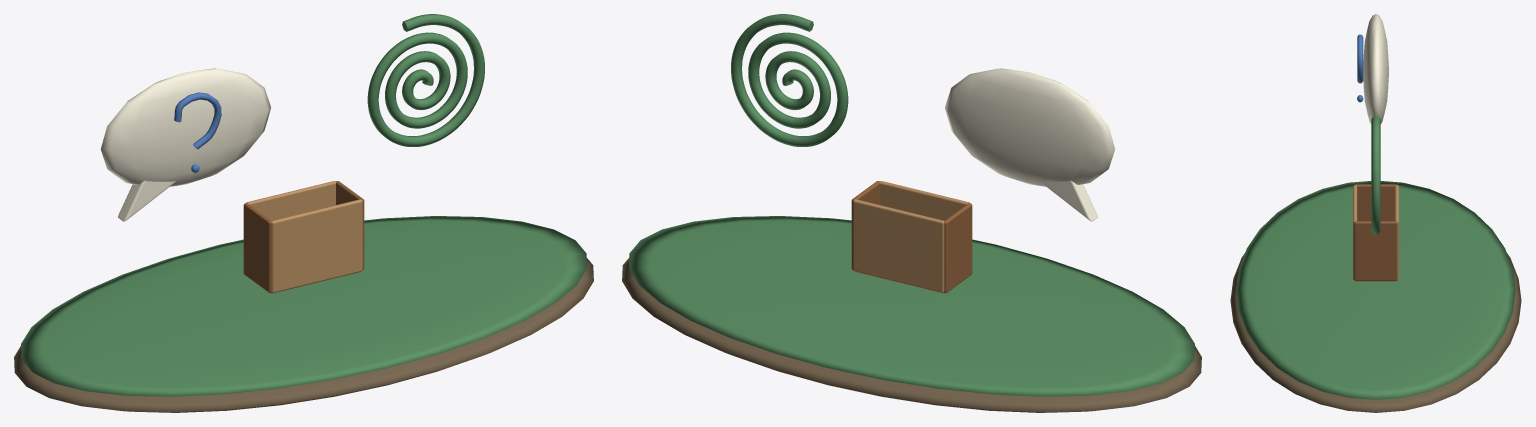
The model's file is complete-first-what-in-the-box.glb.
3 views of the same model, side by side, from view 1: azimuth 30°, elevation 25°; view 2: azimuth 150°, elevation 25°; view 3: azimuth 270°, elevation 25° (orthographic). The views are drawn at different scales.
Parts seen in each view (by area): view 1: complete-first-what-in-the-box_surface_01, complete-first-what-in-the-box_surface_02, complete-first-what-in-the-box_surface_00, complete-first-what-in-the-box_surface_04, complete-first-what-in-the-box_surface_05, complete-first-what-in-the-box_surface_03; view 2: complete-first-what-in-the-box_surface_01, complete-first-what-in-the-box_surface_02, complete-first-what-in-the-box_surface_00, complete-first-what-in-the-box_surface_04, complete-first-what-in-the-box_surface_05; view 3: complete-first-what-in-the-box_surface_01, complete-first-what-in-the-box_surface_00, complete-first-what-in-the-box_surface_05, complete-first-what-in-the-box_surface_02, complete-first-what-in-the-box_surface_04, complete-first-what-in-the-box_surface_03.
Boxes of the visible parts, bbox=[...] form: complete-first-what-in-the-box_surface_01: bbox=[21, 14, 586, 396]; complete-first-what-in-the-box_surface_02: bbox=[100, 68, 270, 221]; complete-first-what-in-the-box_surface_00: bbox=[14, 258, 593, 412]; complete-first-what-in-the-box_surface_04: bbox=[246, 181, 362, 292]; complete-first-what-in-the-box_surface_05: bbox=[243, 181, 364, 293]; complete-first-what-in-the-box_surface_03: bbox=[174, 92, 221, 172]; complete-first-what-in-the-box_surface_01: bbox=[629, 14, 1194, 396]; complete-first-what-in-the-box_surface_02: bbox=[945, 68, 1115, 221]; complete-first-what-in-the-box_surface_00: bbox=[622, 258, 1201, 412]; complete-first-what-in-the-box_surface_04: bbox=[853, 181, 969, 292]; complete-first-what-in-the-box_surface_05: bbox=[851, 181, 972, 293]; complete-first-what-in-the-box_surface_01: bbox=[1236, 116, 1515, 399]; complete-first-what-in-the-box_surface_00: bbox=[1230, 253, 1521, 412]; complete-first-what-in-the-box_surface_05: bbox=[1354, 184, 1397, 281]; complete-first-what-in-the-box_surface_02: bbox=[1363, 14, 1388, 123]; complete-first-what-in-the-box_surface_04: bbox=[1353, 185, 1398, 279]; complete-first-what-in-the-box_surface_03: bbox=[1357, 34, 1363, 102].
Size of the model in its own units: 4.56 by 2.29 by 2.5.
